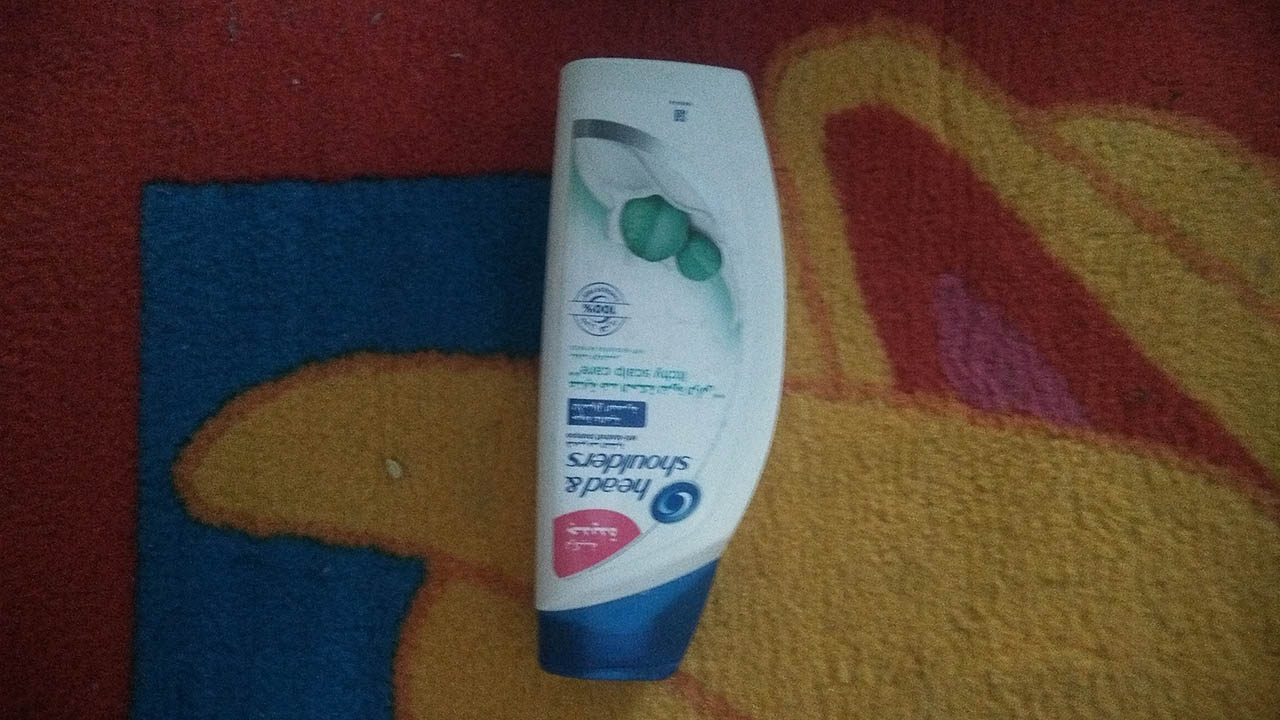shampoo-green 4.5$: (493, 33, 805, 693)
